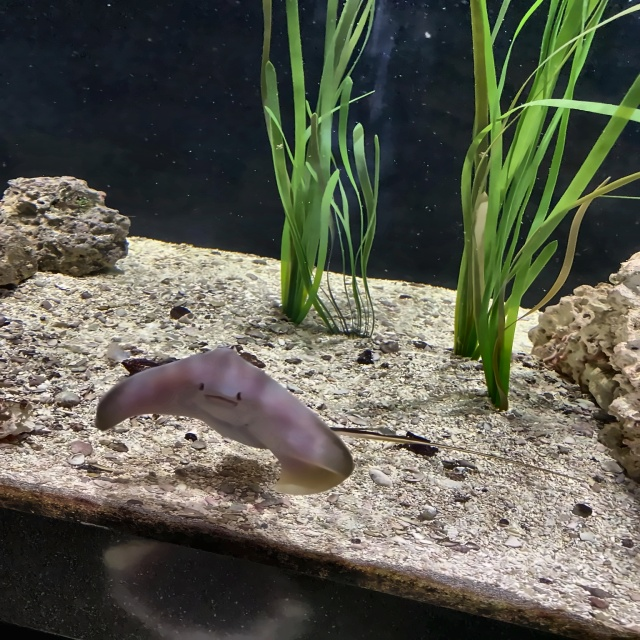stingray: (95, 348, 354, 494)
